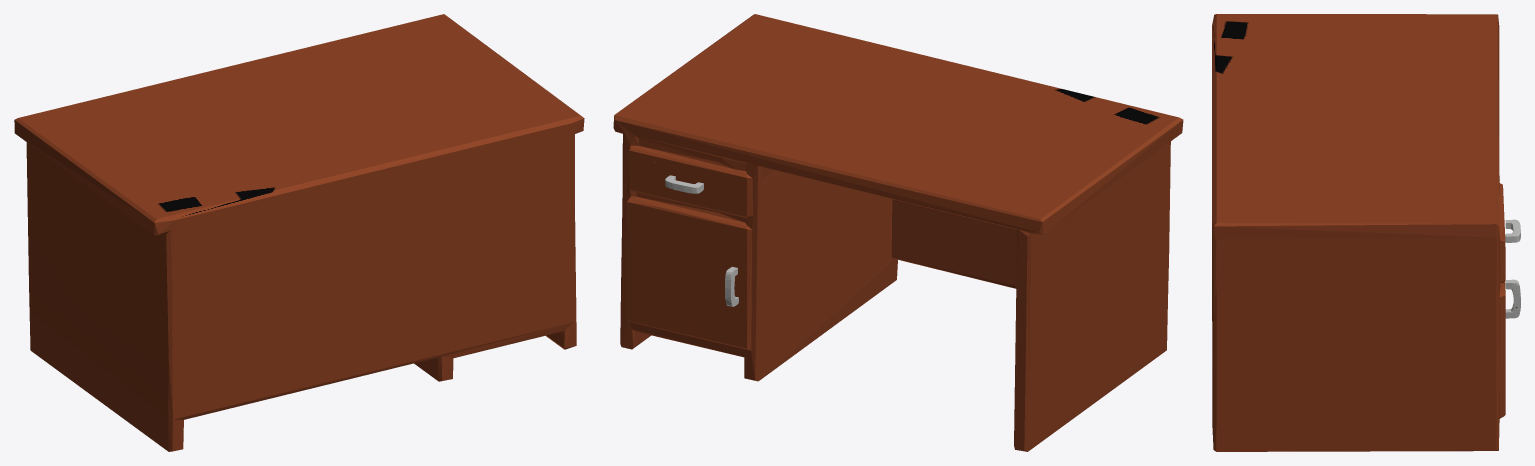
Rendered from schreibtisch.glb.
3 renders of one model, left to right at view 1: azimuth 30°, elevation 25°; view 2: azimuth 150°, elevation 25°; view 3: azimuth 270°, elevation 25°, orthographic.
Parts seen in each view (by area): view 1: 282367_23_05_24_18_12_22_3; view 2: 282367_23_05_24_18_12_22_3; view 3: 282367_23_05_24_18_12_22_3, 282367_23_05_24_18_12_22_2, 282367_23_05_24_18_12_22_1.
Boxes of the visible parts, x1,y1,x2,y2 form: 282367_23_05_24_18_12_22_3: [14, 14, 584, 451]; 282367_23_05_24_18_12_22_3: [613, 14, 1183, 451]; 282367_23_05_24_18_12_22_3: [1212, 14, 1505, 451]; 282367_23_05_24_18_12_22_2: [1505, 279, 1520, 318]; 282367_23_05_24_18_12_22_1: [1505, 219, 1520, 242].
Size of the model in its own units: 8.54 by 4.47 by 5.26.
Materials: 3 (3 with a texture image).
